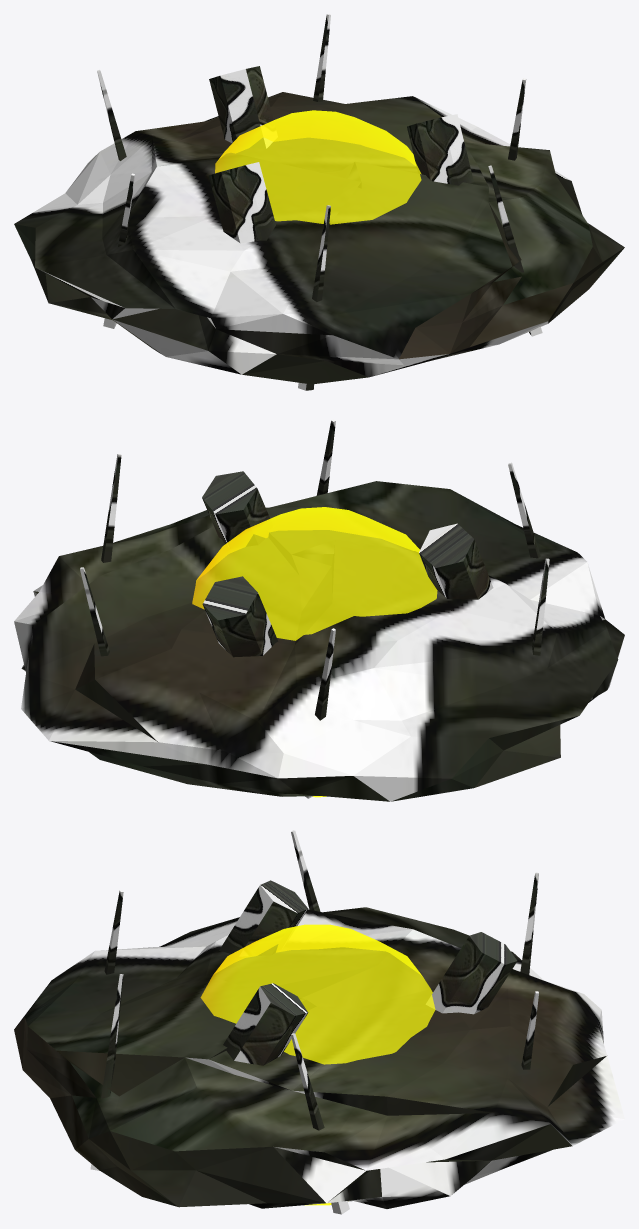
File: verdant_spawning_nest.glb
3 renders of one model, top to bottom at view 1: azimuth 30°, elevation 25°; view 2: azimuth 150°, elevation 25°; view 3: azimuth 270°, elevation 25°, orthographic. The views are drawn at different scales.
Parts seen in each view (by area): view 1: VerdantSpawningNest; view 2: VerdantSpawningNest; view 3: VerdantSpawningNest.
Boxes of the visible parts, x1,y1,x2,y2 form: VerdantSpawningNest: (14, 14, 624, 390); VerdantSpawningNest: (14, 419, 624, 801); VerdantSpawningNest: (14, 830, 624, 1214).
Bounding box in the file's own units: 4.1 × 1.86 × 3.95.
Materials: 2 (1 with a texture image).
